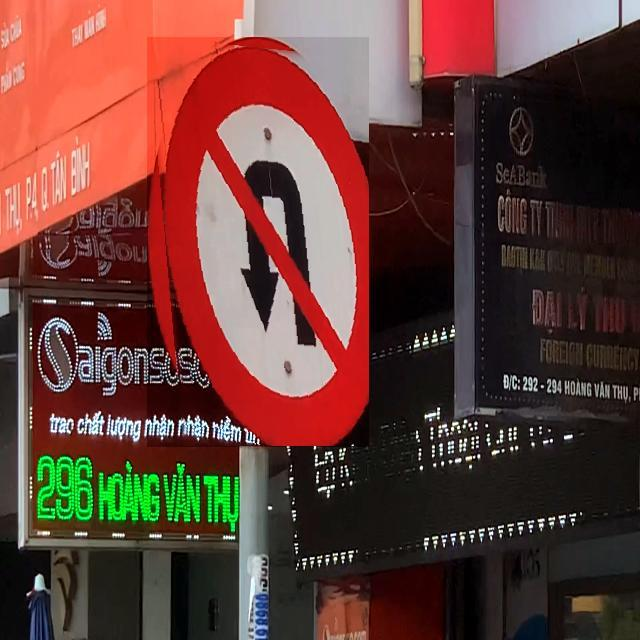P-124a: (147, 38, 369, 448)
